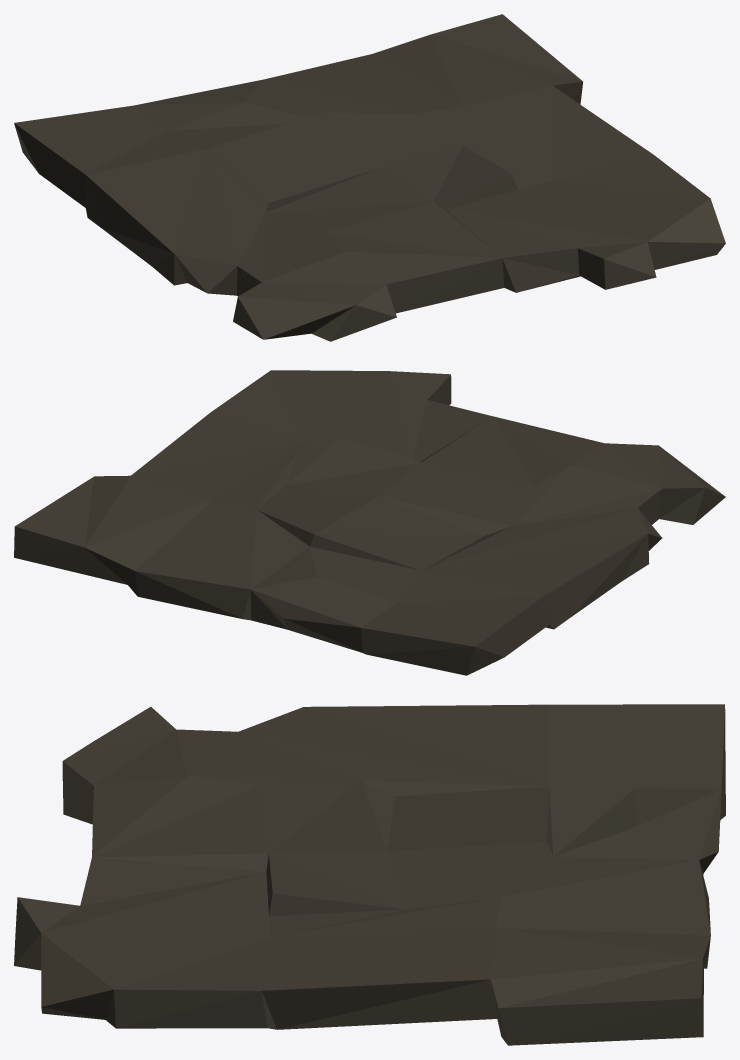
File: Brick_1_LOD.fbx
The picture shows the model from 3 angles, top to bottom: view 1: azimuth 30°, elevation 25°; view 2: azimuth 150°, elevation 25°; view 3: azimuth 270°, elevation 25°; orthographic projection. The views are drawn at different scales.
Parts seen in each view (by area): view 1: Group54960; view 2: Group54960; view 3: Group54960.
Part boxes in pixels (x1,y1,x2,y2): Group54960: (14,14,725,341); Group54960: (14,370,725,675); Group54960: (14,704,725,1045).
Size of the model in its own units: 7.11 by 0.693 by 7.18.
